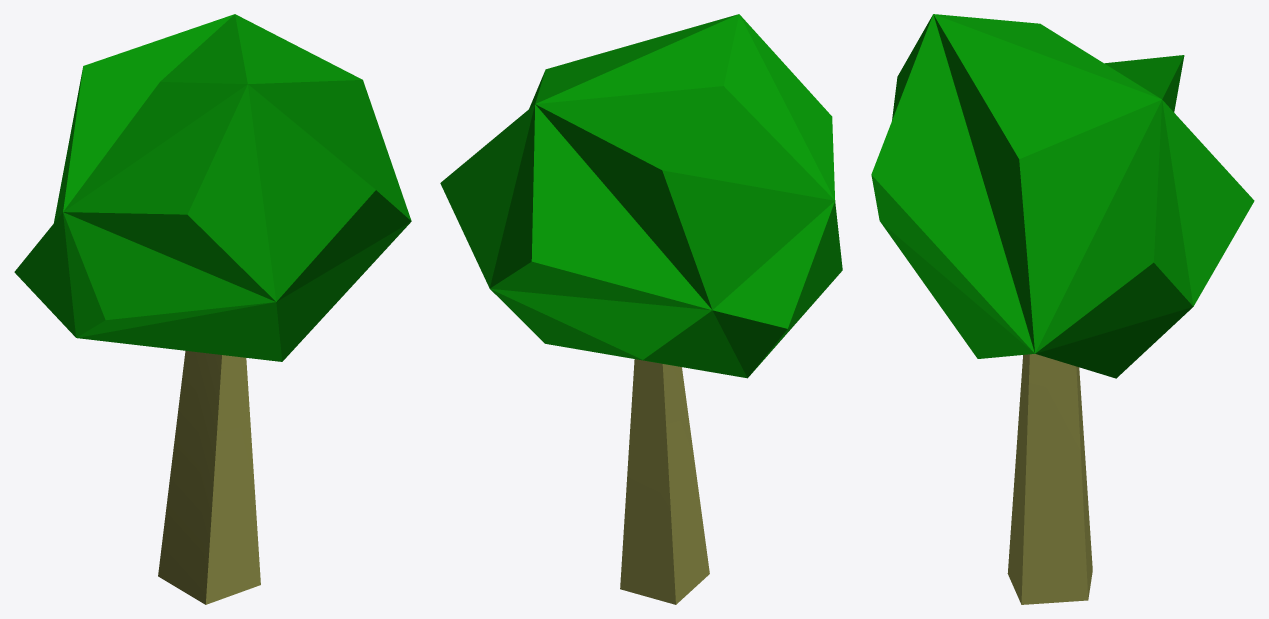
The model's file is small_tree_v2.fbx.
3 views of the same model, side by side, from view 1: azimuth 30°, elevation 25°; view 2: azimuth 150°, elevation 25°; view 3: azimuth 270°, elevation 25° (orthographic). The views are drawn at different scales.
Visible parts, largest first — view 1: polySurface1; view 2: polySurface1; view 3: polySurface1.
Part boxes in pixels (x1=…): polySurface1: x1=14, y1=14, x2=411, y2=604; polySurface1: x1=440, y1=14, x2=842, y2=604; polySurface1: x1=871, y1=14, x2=1254, y2=604.
Bounding box in the file's own units: 13.93 × 20.47 × 12.63.
